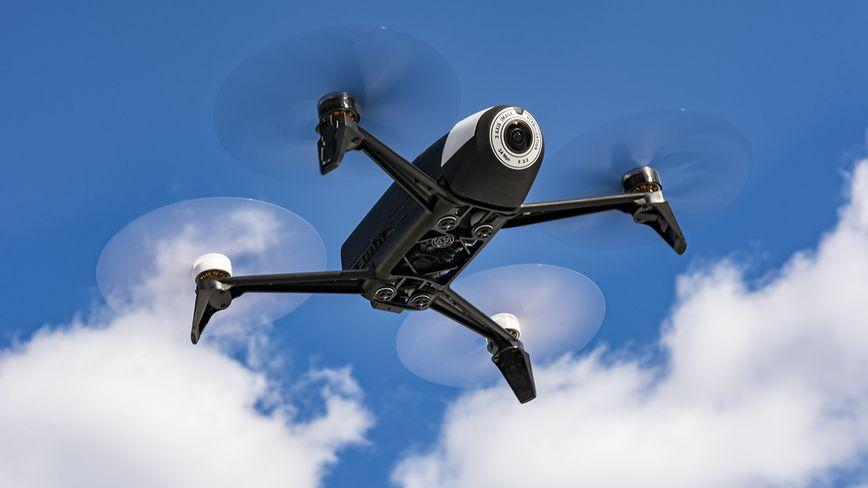drone: (133, 82, 712, 406)
